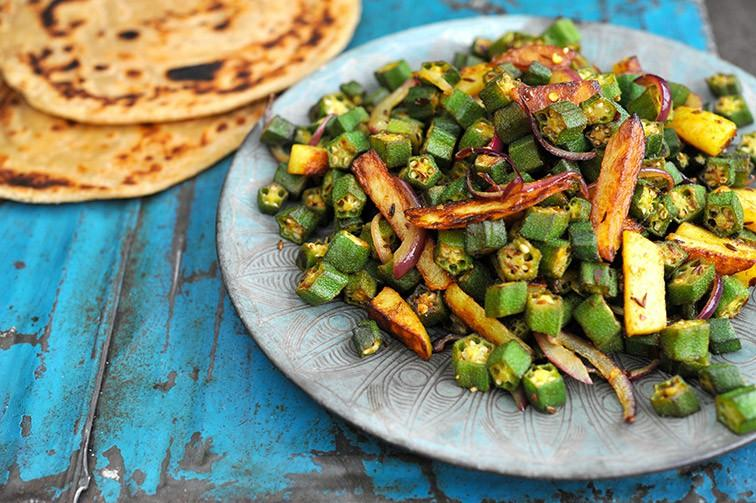BhindiMasala: (256, 18, 756, 436)
